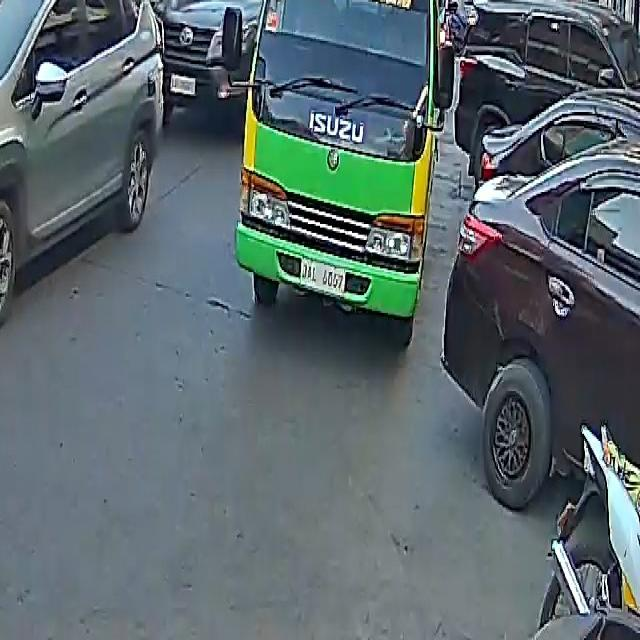car: (443, 84, 640, 524), (0, 0, 177, 331), (454, 0, 640, 171), (154, 0, 339, 117)
